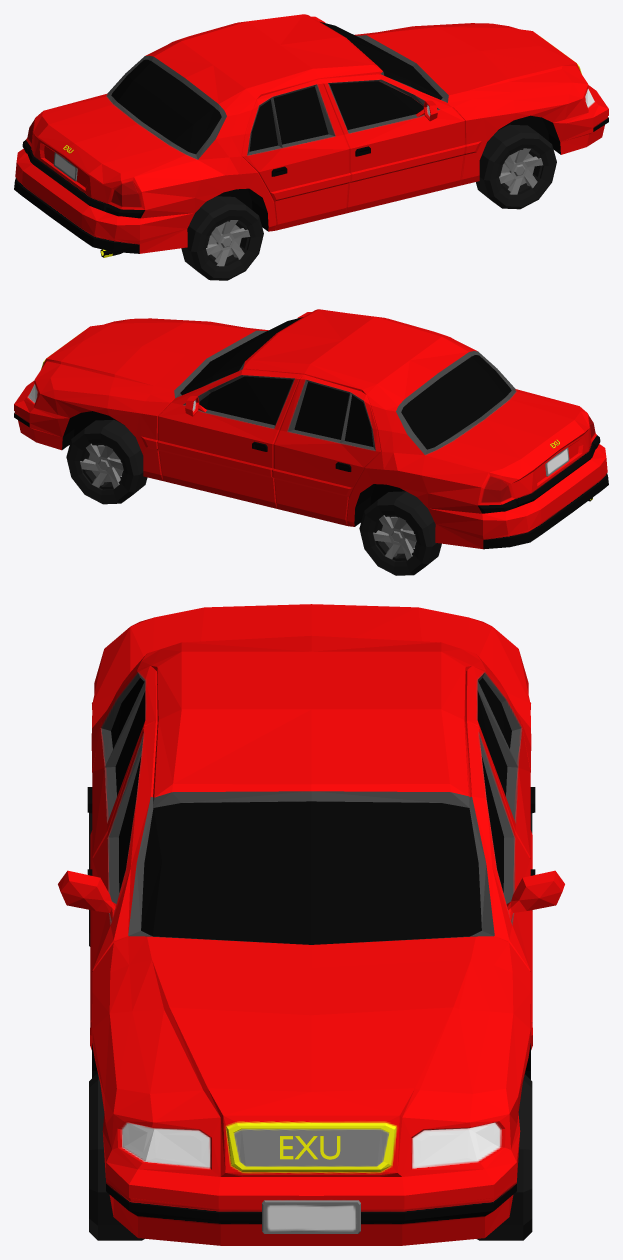
File: NewCarEXU2_v2.glb
The picture shows the model from 3 angles, top to bottom: view 1: azimuth 30°, elevation 25°; view 2: azimuth 150°, elevation 25°; view 3: azimuth 270°, elevation 25°; orthographic projection. The views are drawn at different scales.
Parts seen in each view (by area): view 1: SK_Veh_Car_Sedan_01.001, SK_Veh_Car_Sedan_01.003, SK_Veh_Car_Sedan_01.006; view 2: SK_Veh_Car_Sedan_01.001, SK_Veh_Car_Sedan_01.004, SK_Veh_Car_Sedan_01.002; view 3: SK_Veh_Car_Sedan_01.001, SK_Veh_Car_Sedan_01.003, SK_Veh_Car_Sedan_01.004.
Part boxes in pixels (box(x1,y1,x2,y2)): SK_Veh_Car_Sedan_01.001: box(14, 14, 608, 257); SK_Veh_Car_Sedan_01.003: box(476, 124, 556, 209); SK_Veh_Car_Sedan_01.006: box(181, 196, 263, 280); SK_Veh_Car_Sedan_01.001: box(14, 309, 608, 549); SK_Veh_Car_Sedan_01.004: box(66, 420, 147, 504); SK_Veh_Car_Sedan_01.002: box(359, 491, 441, 575); SK_Veh_Car_Sedan_01.001: box(58, 604, 564, 1245); SK_Veh_Car_Sedan_01.003: box(89, 1073, 144, 1240); SK_Veh_Car_Sedan_01.004: box(477, 1074, 532, 1240).
Bounding box in the file's own units: 6.9 × 2.15 × 2.9.
1 material, 1 textured.
